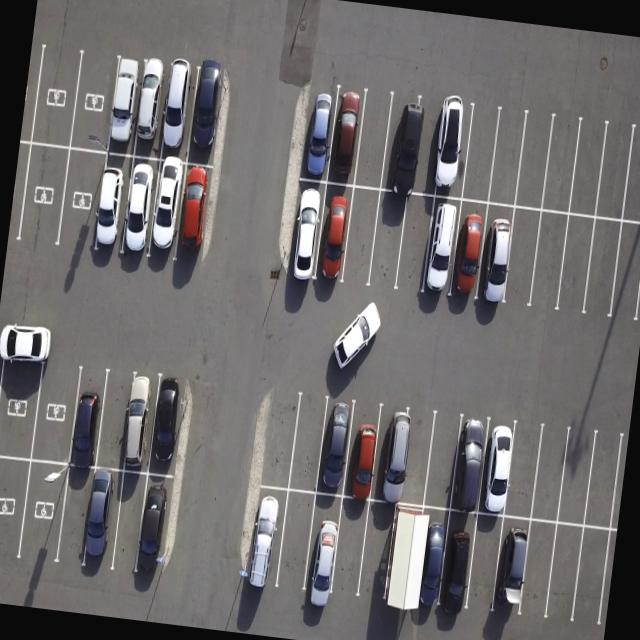car: (16, 461, 72, 568), (240, 483, 292, 597), (0, 339, 45, 461), (404, 507, 452, 620), (432, 508, 481, 618), (172, 162, 222, 268), (300, 488, 346, 600), (378, 90, 428, 193), (79, 468, 127, 574), (134, 474, 182, 580), (62, 367, 110, 472), (490, 512, 537, 618), (86, 150, 132, 258), (146, 378, 194, 481), (370, 406, 418, 508), (118, 152, 164, 258), (325, 85, 370, 189), (445, 198, 489, 304), (314, 181, 358, 287), (144, 158, 188, 264), (472, 419, 519, 518), (340, 402, 386, 503), (420, 196, 464, 300), (447, 415, 493, 513), (313, 399, 358, 499), (118, 372, 162, 474), (475, 202, 518, 306), (430, 101, 474, 202), (288, 180, 328, 287), (155, 62, 196, 164), (186, 66, 227, 167), (132, 59, 172, 160), (300, 84, 340, 184), (104, 55, 143, 156)
free: (29, 352, 85, 466), (14, 141, 67, 251), (55, 146, 108, 256), (28, 41, 80, 148), (274, 489, 322, 602), (92, 368, 143, 472), (458, 511, 506, 620), (380, 502, 428, 610), (69, 50, 119, 153), (324, 497, 372, 604), (569, 526, 616, 630), (538, 522, 585, 626), (514, 518, 560, 624), (578, 215, 624, 321), (50, 464, 96, 568), (352, 88, 398, 190), (582, 428, 628, 530), (529, 208, 574, 312), (256, 389, 301, 492), (498, 206, 542, 311), (526, 422, 572, 522), (550, 428, 596, 528), (288, 394, 333, 496), (353, 500, 397, 604), (107, 468, 150, 574), (394, 193, 438, 295), (340, 188, 383, 292), (502, 422, 547, 520), (418, 412, 462, 512), (554, 212, 596, 316), (591, 121, 634, 220), (365, 187, 407, 288), (456, 108, 499, 206), (486, 108, 528, 207), (542, 115, 584, 214), (395, 408, 437, 507), (566, 120, 609, 216), (511, 113, 553, 211), (409, 96, 448, 196), (608, 219, 640, 326), (0, 452, 29, 560), (621, 127, 640, 227)
